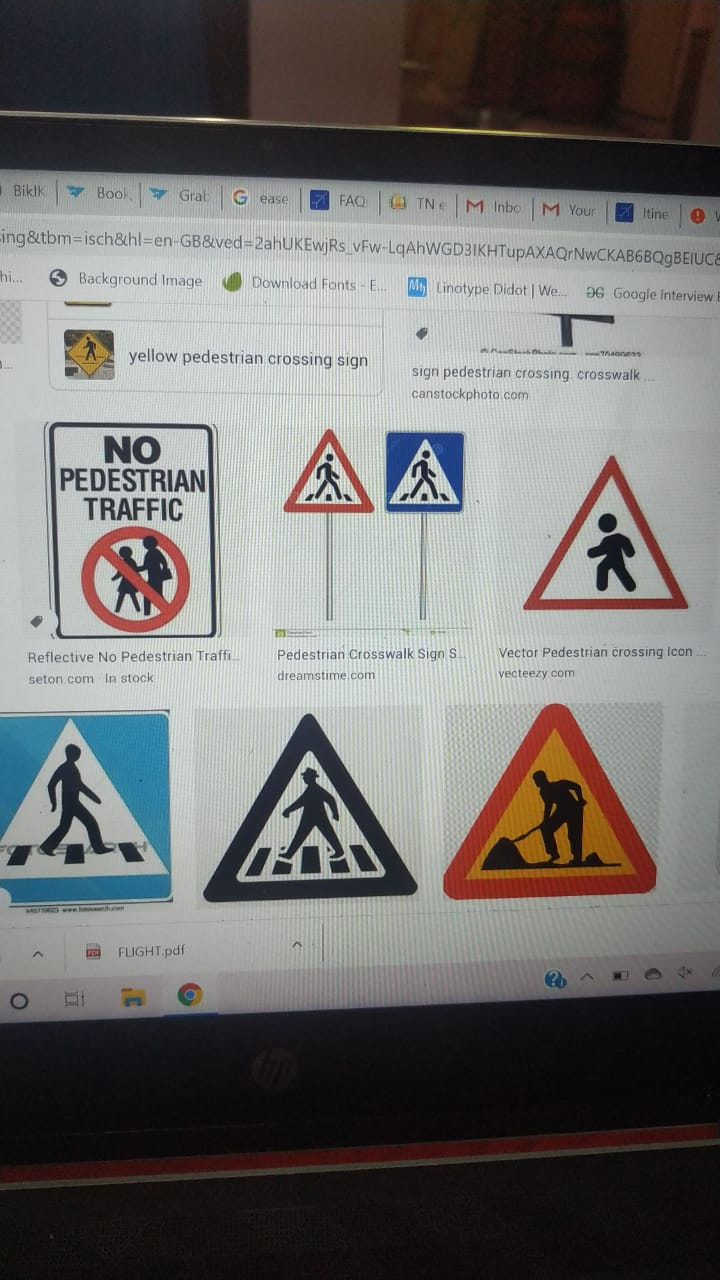PEDESTRIAN CROSSING: (201, 692, 425, 913), (1, 678, 186, 903), (521, 433, 698, 637), (277, 399, 382, 525), (381, 417, 482, 523)
